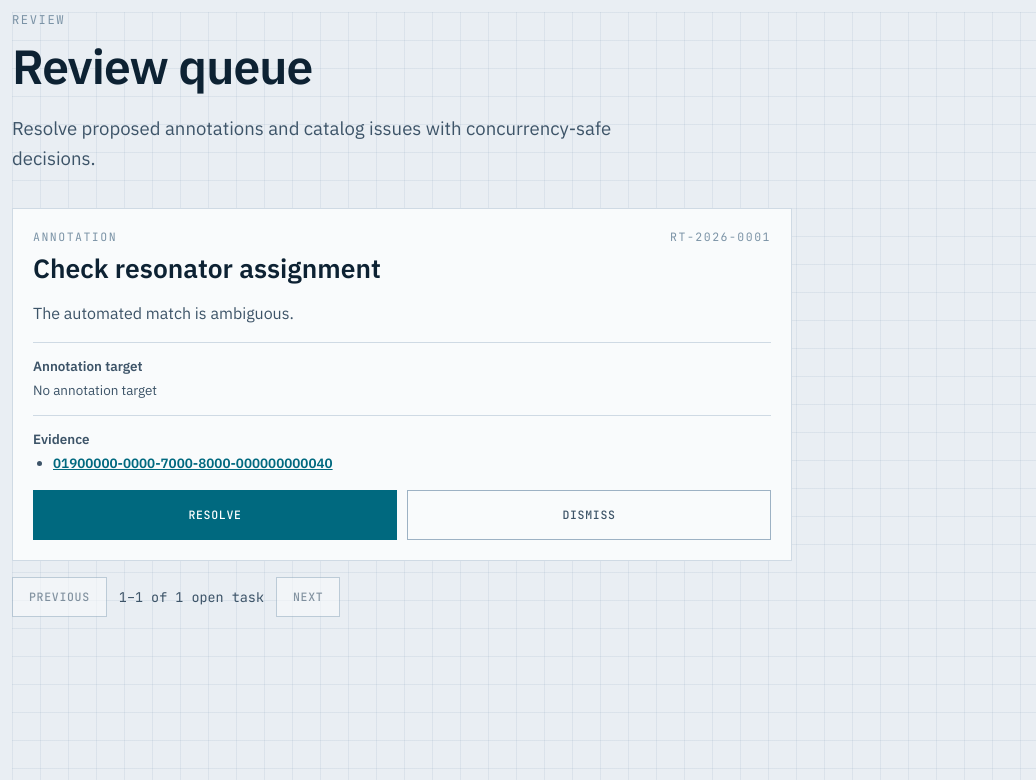
Test: ReviewQueuePage › shows the required reload message after a stale dismiss
Expected: the heading "Check resonator assignment" is shown, [33,251,381,285]
What coordinates should you click on to do the following:
click the button "Dismiss"
I would click on:
 (589, 515)
Its box is [407,490,771,540].
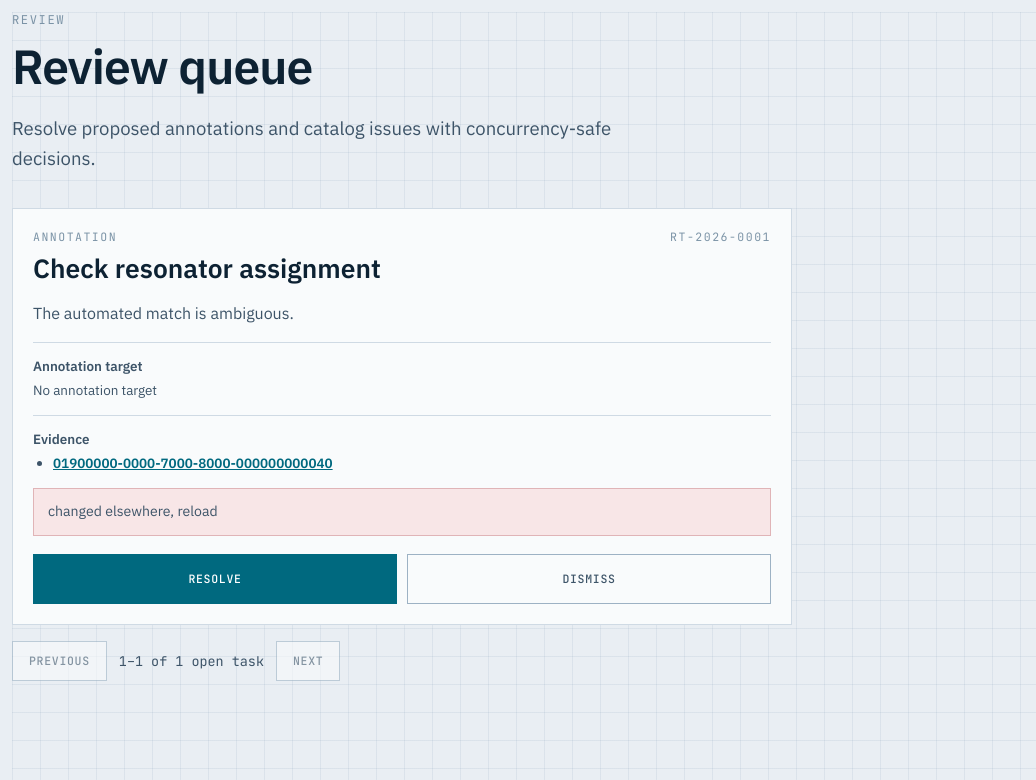
Expected: the heading "Check resonator assignment" is shown, [33,251,381,285]
Now the text "changed elsewhere, reload" is shown, box [33,488,771,536]
